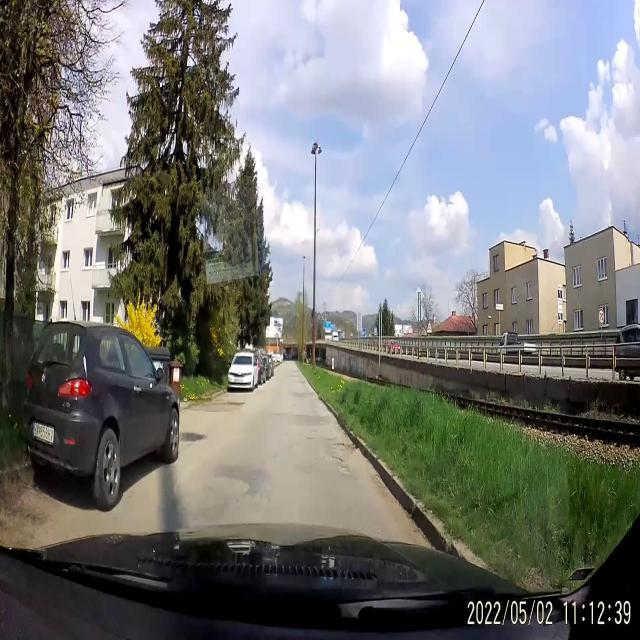Pothole: (326, 431, 354, 477)
